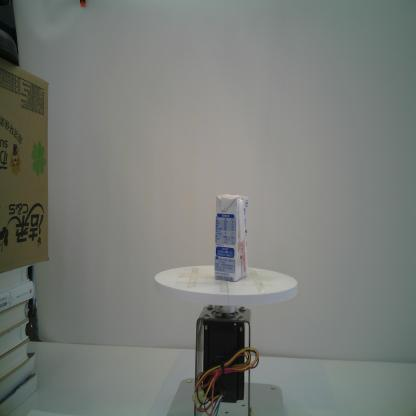Milk: (214, 192, 249, 283)
